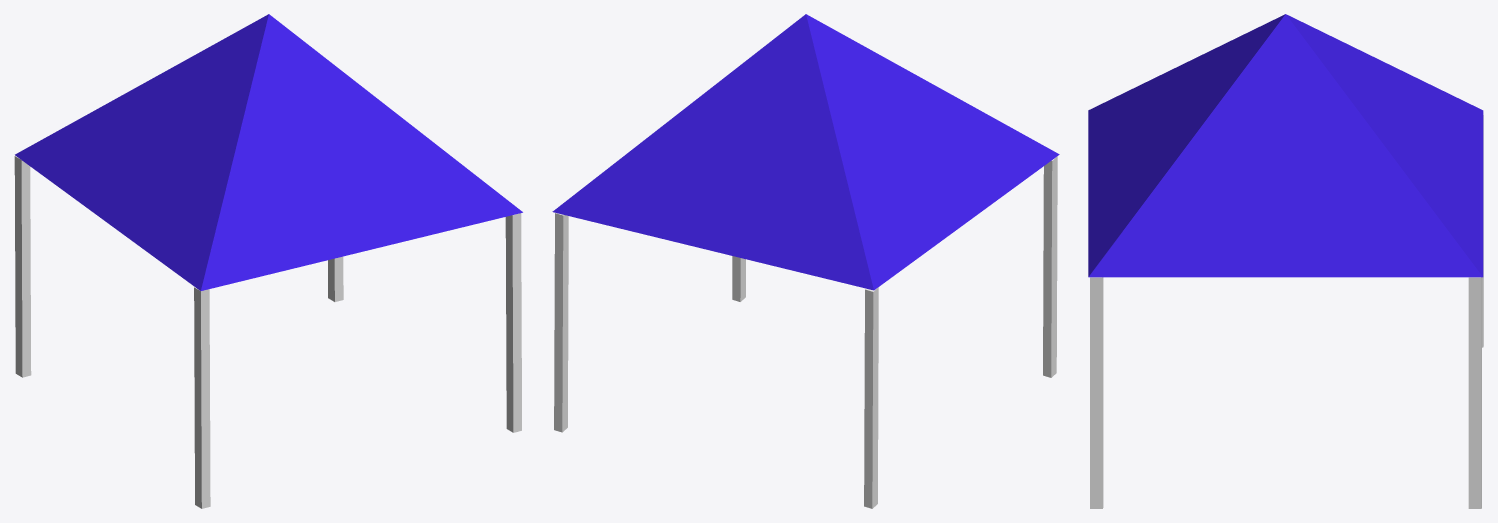
File: tent2.glb
The picture shows the model from 3 angles, left to right: view 1: azimuth 30°, elevation 25°; view 2: azimuth 150°, elevation 25°; view 3: azimuth 270°, elevation 25°; orthographic projection. The views are drawn at different scales.
Visible parts, largest first — view 1: Cube; view 2: Cube; view 3: Cube.
Part boxes in pixels (box(x1,y1,x2,y2)): Cube: box(14, 14, 522, 508); Cube: box(552, 14, 1059, 508); Cube: box(1088, 14, 1483, 508).
Bounding box in the file's own units: 2 × 2.3 × 2.
